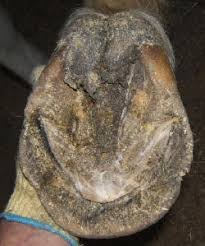horsesole: (17, 95, 194, 239)
